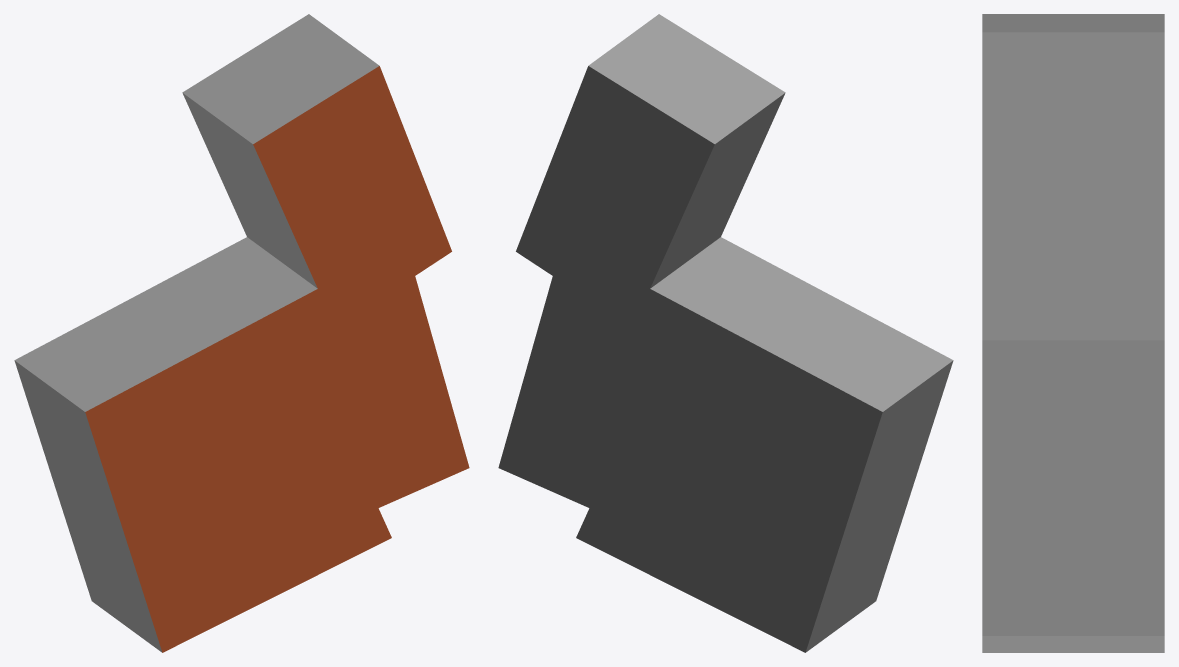
File: construction_1250_assumed_A_Casa_h6m.obj
3 views of the same model, side by side, from view 1: azimuth 30°, elevation 25°; view 2: azimuth 150°, elevation 25°; view 3: azimuth 270°, elevation 25° (orthographic). The views are drawn at different scales.
Visible parts, largest first — view 1: construction_1250_assumed_A_Casa; view 2: construction_1250_assumed_A_Casa; view 3: construction_1250_assumed_A_Casa.
Boxes of the visible parts, box(x1,y1,x2,y2) form: construction_1250_assumed_A_Casa: box(14, 14, 469, 652); construction_1250_assumed_A_Casa: box(498, 14, 953, 652); construction_1250_assumed_A_Casa: box(982, 14, 1164, 652).
Bounding box in the file's own units: 18.81 × 24.98 × 6.
